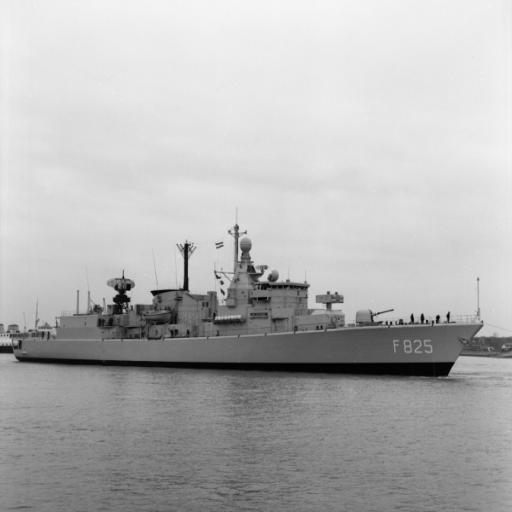Fragata: (9, 207, 484, 383)
